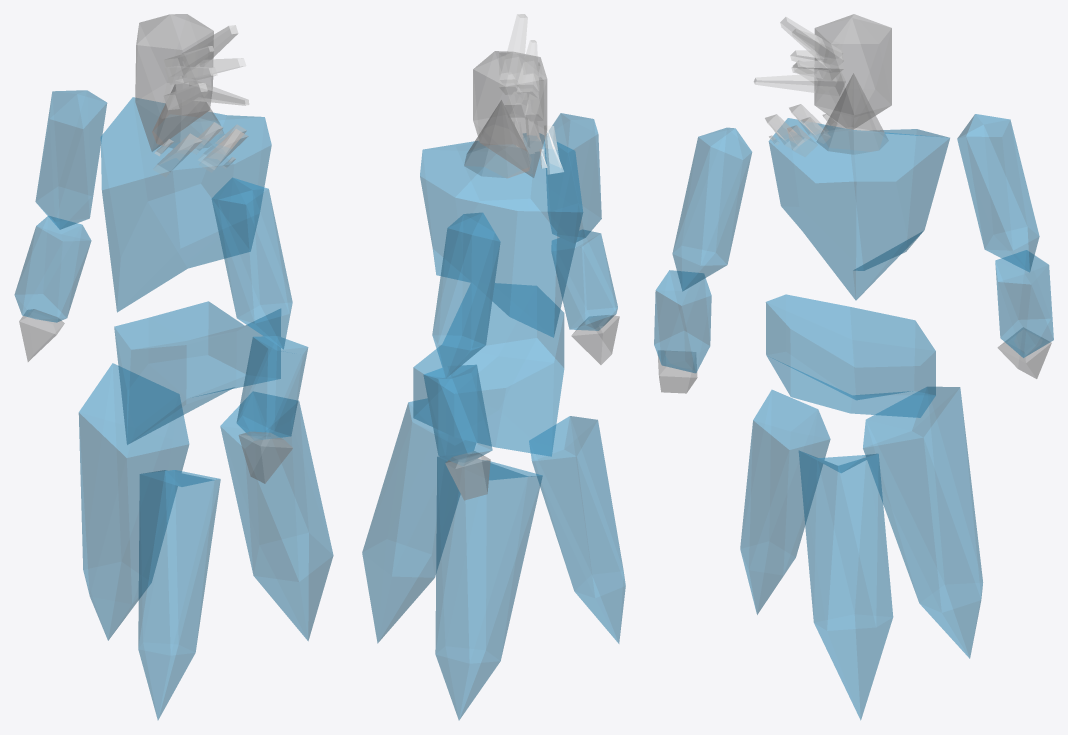
File: ghostIdle9.obj
3 renders of one model, left to right at view 1: azimuth 30°, elevation 25°; view 2: azimuth 150°, elevation 25°; view 3: azimuth 270°, elevation 25°, orthographic. The views are drawn at different scales.
Visible parts, largest first — view 1: Cube.001_Cube.001, Icosphere.005, Icosphere.004, Cube_Cube.002, Icosphere.003, Icosphere.005_Icosphere.001, Icosphere.003_Icosphere.001, Icosphere.007_Icosphere.001, Icosphere.008_Icosphere.001, Icosphere.006_Icosphere.001, Cone_Cone.002, Cube.002_Cube.001 (+8 smaller); view 2: Cube.001_Cube.001, Cube_Cube.002, Icosphere.005, Icosphere.004, Icosphere.003, Icosphere.007_Icosphere.001, Icosphere.003_Icosphere.001, Icosphere.005_Icosphere.001, Icosphere.008_Icosphere.001, Icosphere.006_Icosphere.001, Cone_Cone.002, Cube.003_Cube.001 (+6 smaller); view 3: Cube.001_Cube.001, Icosphere.005, Icosphere.004, Cube_Cube.002, Icosphere.003, Icosphere.005_Icosphere.001, Icosphere.007_Icosphere.001, Icosphere.003_Icosphere.001, Icosphere.006_Icosphere.001, Icosphere.008_Icosphere.001, Cone_Cone.002, Cube.003_Cube.001 (+4 smaller).
Part boxes in pixels (<box>): Cube.001_Cube.001: <box>100,97,271,312</box>; Icosphere.005: <box>78,363,189,640</box>; Icosphere.004: <box>220,391,333,640</box>; Cube_Cube.002: <box>114,301,280,444</box>; Icosphere.003: <box>138,470,220,719</box>; Icosphere.005_Icosphere.001: <box>211,177,292,349</box>; Icosphere.003_Icosphere.001: <box>135,14,213,151</box>; Icosphere.007_Icosphere.001: <box>35,90,107,229</box>; Icosphere.008_Icosphere.001: <box>14,216,91,322</box>; Icosphere.006_Icosphere.001: <box>236,336,308,440</box>; Cone_Cone.002: <box>152,84,224,148</box>; Cube.002_Cube.001: <box>238,431,292,483</box>; Cube.001_Cube.001: <box>420,133,583,337</box>; Cube_Cube.002: <box>413,283,564,456</box>; Icosphere.005: <box>435,454,542,720</box>; Icosphere.004: <box>362,399,475,643</box>; Icosphere.003: <box>529,416,625,643</box>; Icosphere.007_Icosphere.001: <box>432,212,500,377</box>; Icosphere.003_Icosphere.001: <box>473,51,547,177</box>; Icosphere.005_Icosphere.001: <box>545,113,601,242</box>; Icosphere.008_Icosphere.001: <box>423,364,492,465</box>; Icosphere.006_Icosphere.001: <box>551,230,617,330</box>; Cone_Cone.002: <box>464,100,529,178</box>; Cube.003_Cube.001: <box>445,451,490,500</box>; Cube.001_Cube.001: <box>768,118,949,300</box>; Icosphere.005: <box>863,386,982,658</box>; Icosphere.004: <box>798,450,893,720</box>; Cube_Cube.002: <box>766,294,935,417</box>; Icosphere.003: <box>740,390,830,614</box>; Icosphere.005_Icosphere.001: <box>672,127,751,291</box>; Icosphere.007_Icosphere.001: <box>957,114,1039,272</box>; Icosphere.003_Icosphere.001: <box>814,14,891,129</box>; Icosphere.006_Icosphere.001: <box>654,270,711,373</box>; Icosphere.008_Icosphere.001: <box>995,250,1053,357</box>; Cone_Cone.002: <box>816,73,888,154</box>; Cube.003_Cube.001: <box>997,327,1051,378</box>.
Size of the model in its own units: 16.86 by 48.37 by 26.79.
